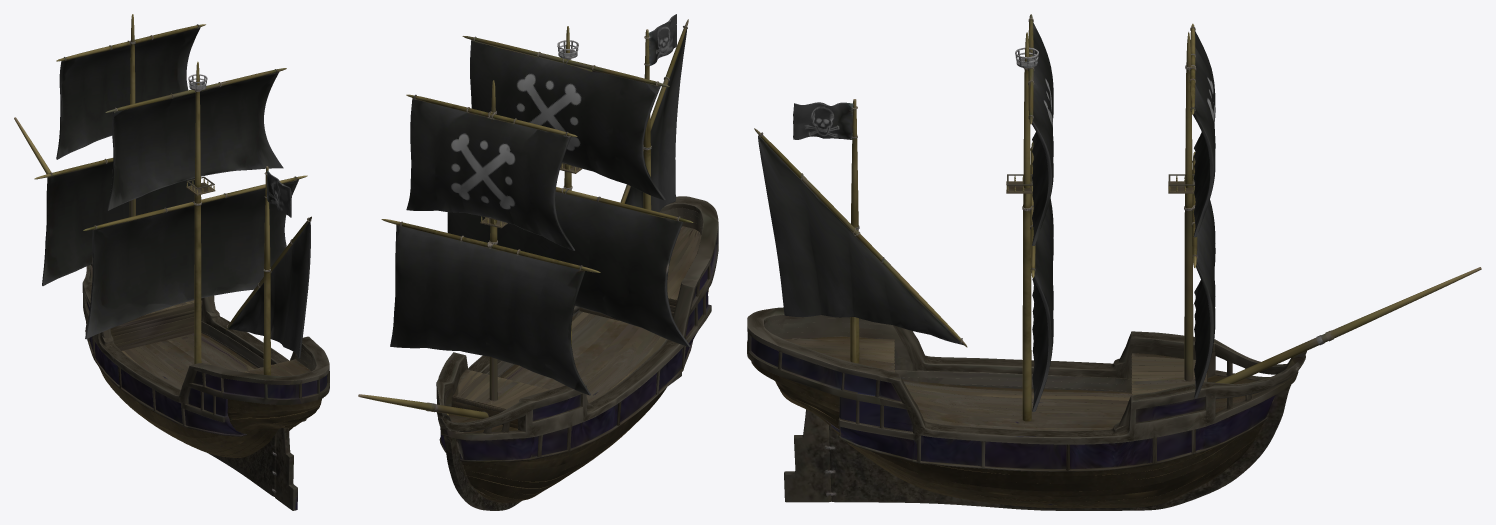
File: MZ4250 - Galleon_Pirate.glb
3 renders of one model, left to right at view 1: azimuth 30°, elevation 25°; view 2: azimuth 150°, elevation 25°; view 3: azimuth 270°, elevation 25°, orthographic. The views are drawn at different scales.
Parts seen in each view (by area): view 1: Galleon_light.001; view 2: Galleon_light.001; view 3: Galleon_light.001.
Part boxes in pixels (x1,y1,x2,y2): Galleon_light.001: (14, 14, 329, 510); Galleon_light.001: (358, 14, 718, 510); Galleon_light.001: (747, 14, 1481, 510).
Bounding box in the file's own units: 80.79 × 132 × 184.
Materials: 1 (1 with a texture image).
